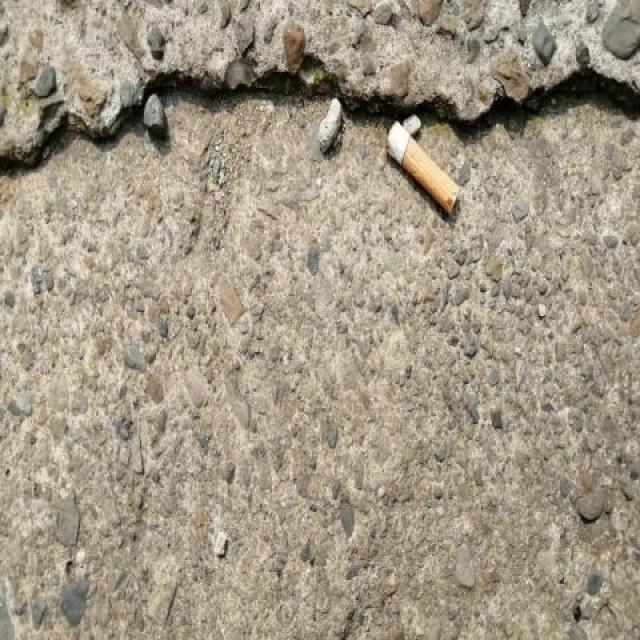non-organic waste: (381, 114, 463, 222)
